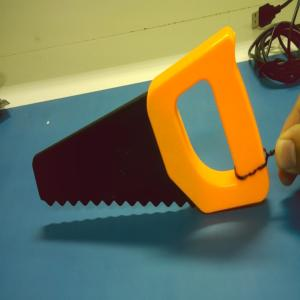serrote: (31, 26, 270, 215)
